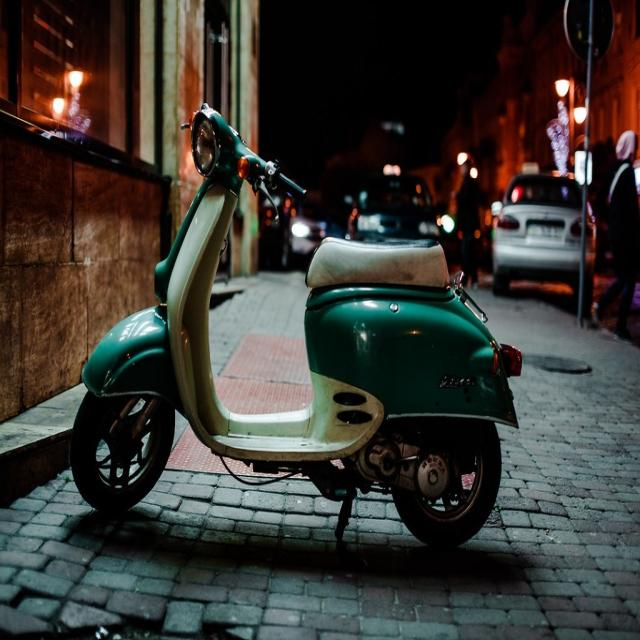scooter: (70, 105, 521, 546)
